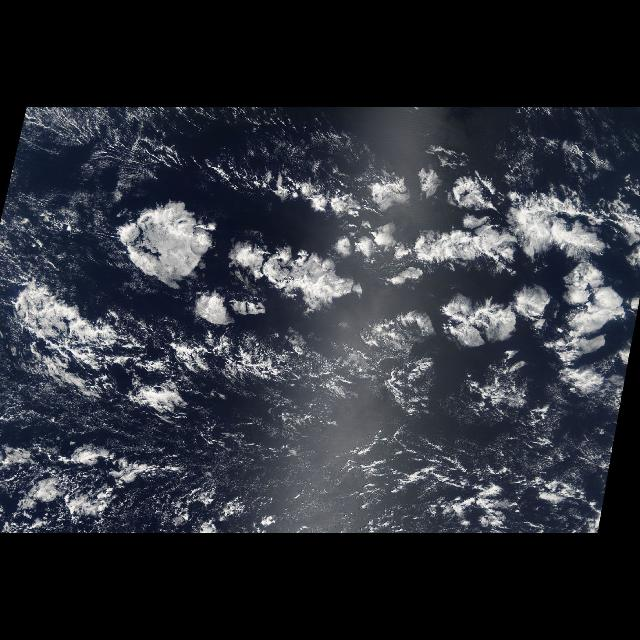Flower: (98, 162, 640, 426)
Gravel: (0, 339, 390, 533)
Sugar: (378, 444, 580, 526)
